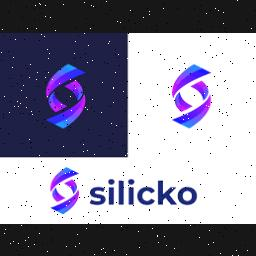c: (136, 184, 156, 206)
i: (118, 177, 124, 207)
k: (157, 178, 177, 208)
o: (178, 184, 198, 206)
s: (88, 183, 106, 207)
